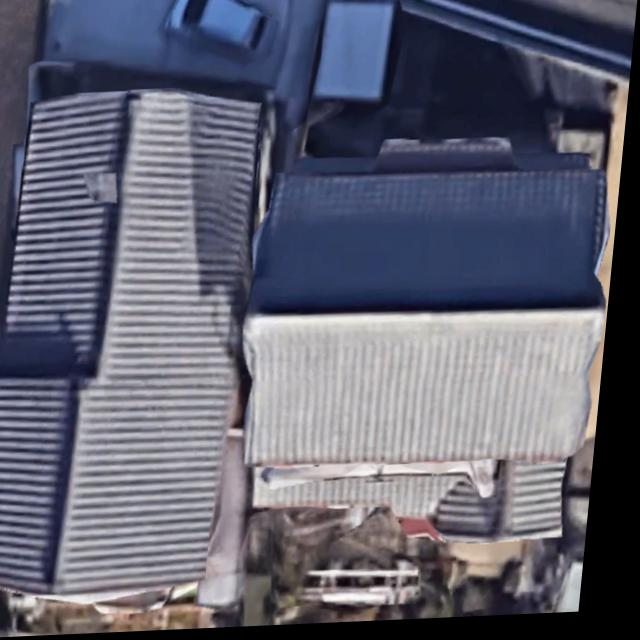Batiment: (0, 92, 262, 593), (256, 177, 613, 315)
